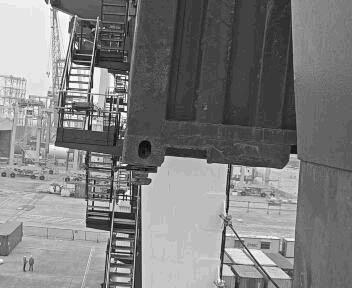twist_lock_1: (149, 161, 191, 194)
